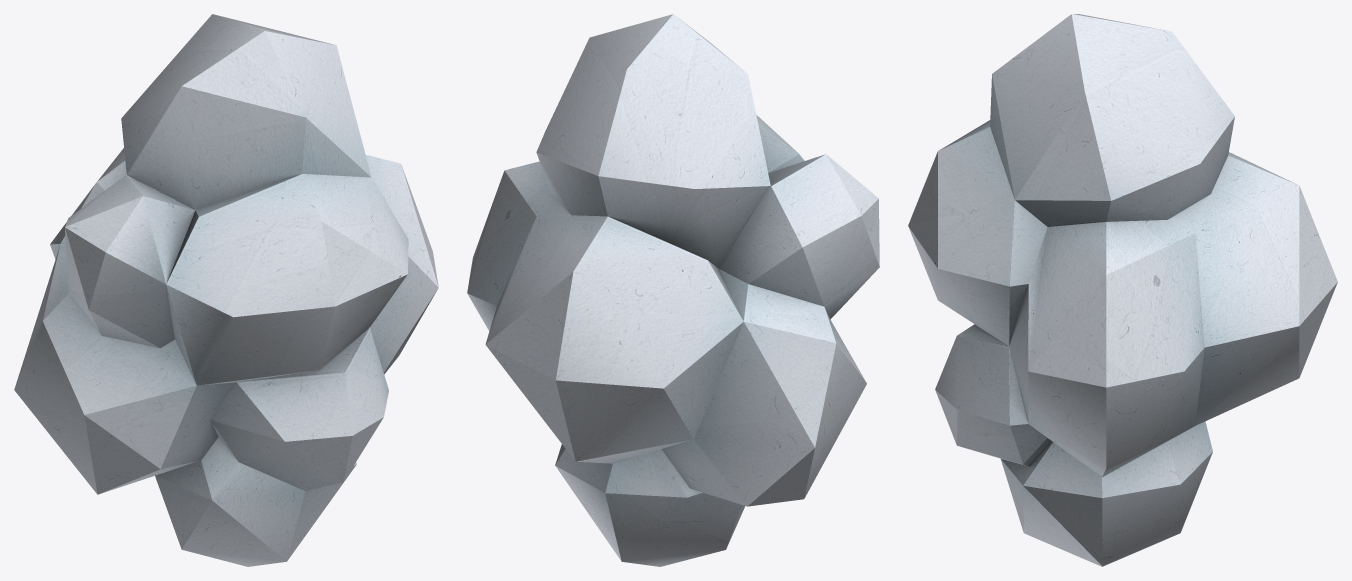
The model's file is hl_cloud_paper_underworld.FBX.
3 views of the same model, side by side, from view 1: azimuth 30°, elevation 25°; view 2: azimuth 150°, elevation 25°; view 3: azimuth 270°, elevation 25° (orthographic). The views are drawn at different scales.
Visible parts, largest first — view 1: hl_cloud_paper_underworld; view 2: hl_cloud_paper_underworld; view 3: hl_cloud_paper_underworld.
Boxes of the visible parts, x1=… form: hl_cloud_paper_underworld: x1=14, y1=14, x2=438, y2=566; hl_cloud_paper_underworld: x1=467, y1=14, x2=879, y2=566; hl_cloud_paper_underworld: x1=908, y1=14, x2=1337, y2=566.
Bounding box in the file's own units: 94.07 × 129 × 90.48.
Materials: 1 (1 with a texture image).
